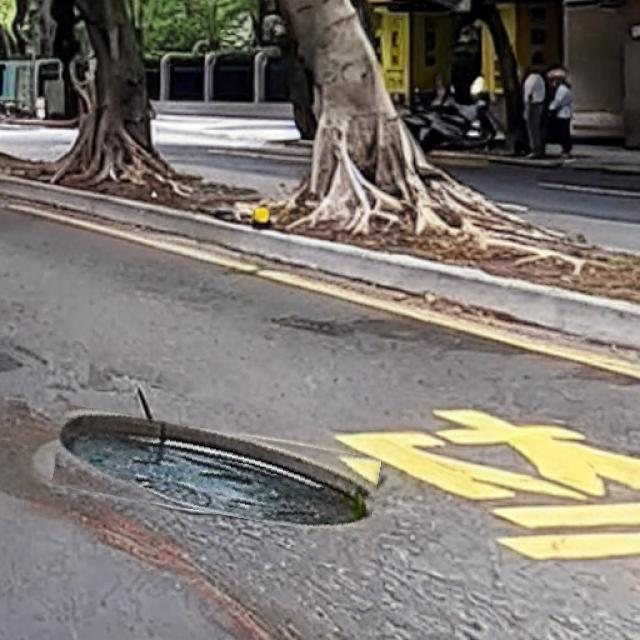puddle: (55, 419, 380, 528)
